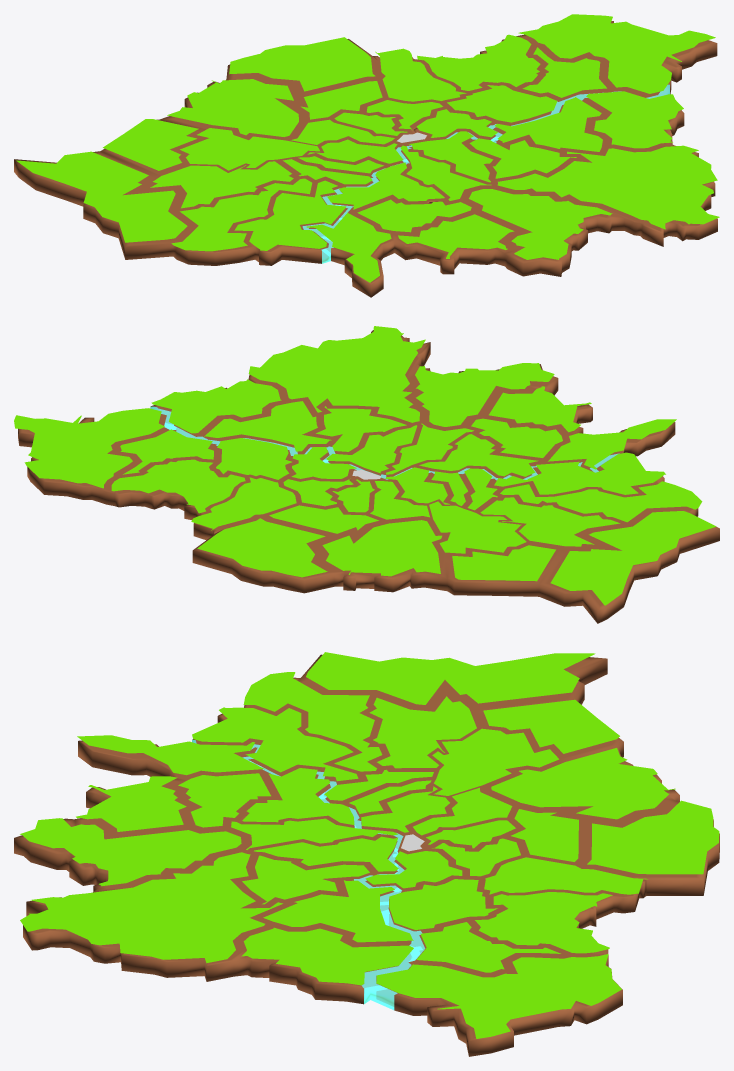
File: london_city.glb
3 views of the same model, one above another, from view 1: azimuth 30°, elevation 25°; view 2: azimuth 150°, elevation 25°; view 3: azimuth 270°, elevation 25° (orthographic). The views are drawn at different scales.
Visible parts, largest first — view 1: city map, Bromley, Havering, Hillingdon, Barnet, Croydon, Enfield, Bexley, Richmond upon thames, Hounslow, Redbridge, Ealing (+21 smaller); view 2: city map, Bromley, Havering, Hillingdon, Barnet, Croydon, Enfield, Bexley, Richmond upon thames, Hounslow, Redbridge, Ealing (+21 smaller); view 3: city map, Bromley, Havering, Hillingdon, Barnet, Croydon, Enfield, Bexley, Richmond upon thames, Hounslow, Redbridge, Ealing (+21 smaller).
Part boxes in pixels (box(x1,y1,x2,y2)): city map: box(14, 21, 717, 297); Bromley: box(497, 145, 719, 229); Havering: box(518, 14, 715, 93); Hillingdon: box(16, 151, 187, 242); Barnet: box(167, 79, 298, 136); Croydon: box(469, 189, 612, 259); Enfield: box(229, 37, 375, 91); Bexley: box(586, 91, 683, 148); Richmond upon thames: box(234, 180, 346, 250); Hounslow: box(171, 178, 312, 251); Redbridge: box(417, 34, 540, 90); Ealing: box(150, 161, 293, 208); city map: box(18, 330, 719, 623); Bromley: box(248, 326, 425, 422); Havering: box(14, 408, 164, 488); Hillingdon: box(550, 511, 716, 605); Barnet: box(322, 520, 441, 576); Croydon: box(415, 363, 554, 426); Enfield: box(197, 518, 327, 577); Bexley: box(151, 379, 281, 433); Richmond upon thames: box(494, 452, 665, 494); Hounslow: box(500, 481, 702, 522); Redbridge: box(111, 459, 245, 513); Ealing: box(480, 497, 620, 546); city map: box(14, 654, 719, 1056); Bromley: box(20, 852, 282, 963); Havering: box(376, 954, 621, 1038); Hillingdon: box(306, 652, 595, 704); Barnet: box(491, 748, 675, 819); Croydon: box(20, 818, 241, 886); Enfield: box(587, 800, 719, 874); Bexley: box(241, 927, 413, 985); Richmond upon thames: box(192, 707, 358, 781); Hounslow: box(243, 672, 382, 771); Redbridge: box(475, 892, 612, 953); Ealing: box(369, 696, 476, 768).
Size of the model in its own units: 19.95 by 0.4545 by 15.34.
